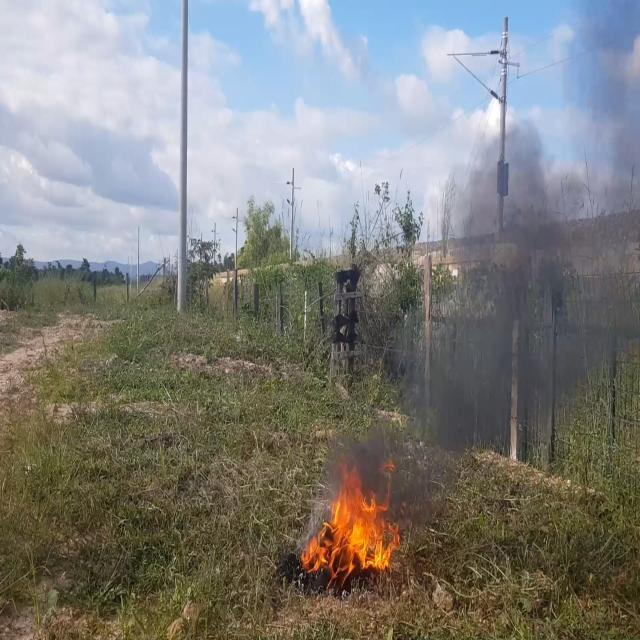Fire: (301, 453, 398, 590)
Smoke: (395, 0, 640, 510)
